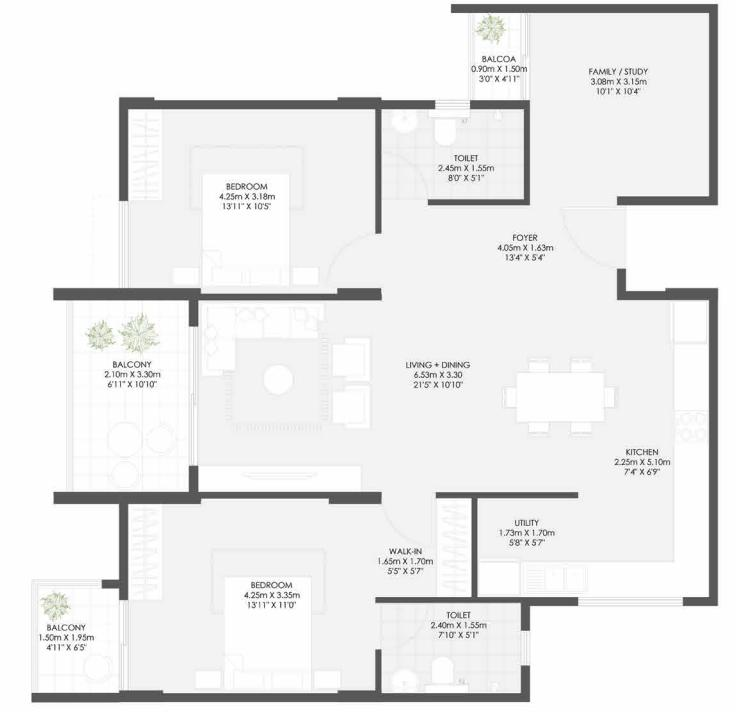Balcony: (60, 300, 192, 491), (33, 590, 116, 696), (465, 9, 525, 108)
Bed: (224, 575, 312, 692), (209, 172, 290, 293)
Bedroom: (128, 109, 377, 295), (127, 507, 371, 691)
Dining Room: (436, 298, 633, 489)
Dining table: (492, 349, 624, 448)
Foyer: (380, 202, 619, 298)
Kitchen: (582, 298, 709, 604)
Living Room: (199, 301, 435, 491)
Sofa: (204, 305, 323, 344), (327, 345, 371, 428), (205, 305, 243, 370), (265, 369, 298, 392)
Wardrobe: (120, 494, 164, 599), (127, 109, 166, 207), (440, 495, 475, 604)
commode: (433, 657, 456, 690), (433, 119, 458, 149)
door: (554, 199, 620, 271), (320, 235, 382, 299), (379, 491, 441, 554), (379, 151, 432, 203)
fridge: (668, 302, 708, 345)
kitchen-slab: (669, 345, 712, 596), (522, 559, 710, 600)
sink: (523, 563, 578, 597), (390, 670, 416, 692), (393, 112, 415, 135)
stove: (676, 411, 709, 442)
study: (528, 10, 709, 193)
toilet: (382, 110, 528, 201), (377, 605, 522, 692)
tv: (197, 460, 368, 499)
utility: (478, 496, 578, 596)
walkin: (373, 496, 473, 602)
washing-machine: (477, 560, 521, 598)
